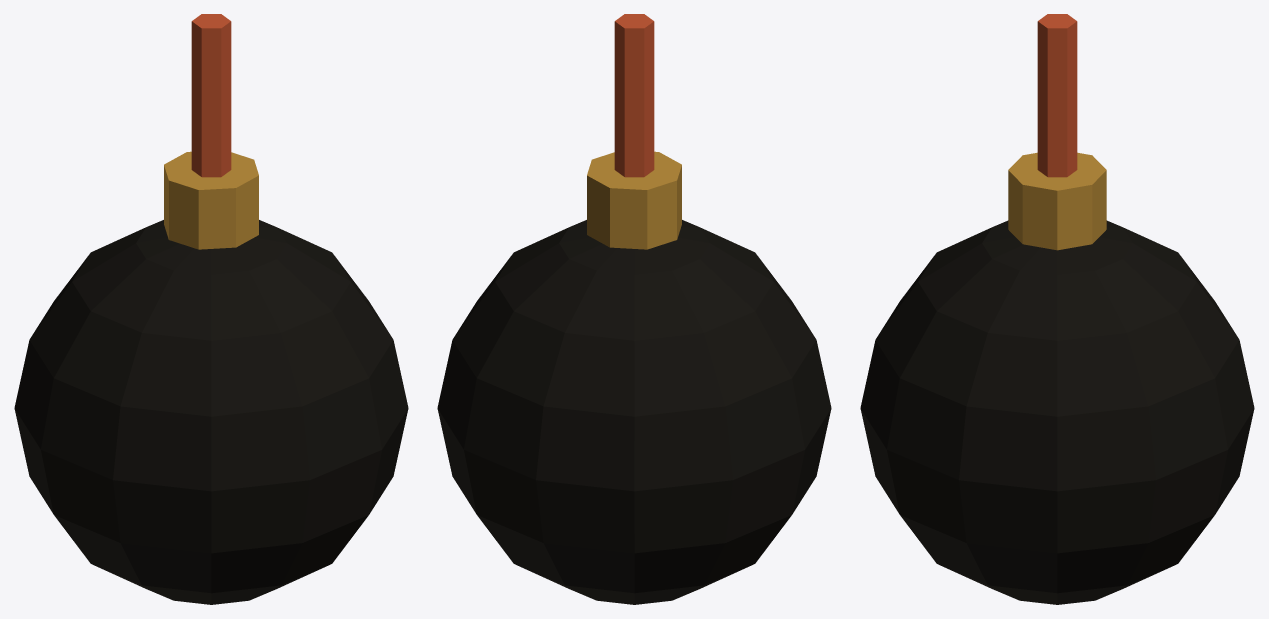
File: PowderGrenade.fbx
3 renders of one model, left to right at view 1: azimuth 30°, elevation 25°; view 2: azimuth 150°, elevation 25°; view 3: azimuth 270°, elevation 25°, orthographic.
Parts seen in each view (by area): view 1: PowderGrenade; view 2: PowderGrenade; view 3: PowderGrenade.
Boxes of the visible parts, x1,y1,x2,y2 form: PowderGrenade: (14, 14, 408, 604); PowderGrenade: (437, 14, 831, 604); PowderGrenade: (860, 14, 1254, 604).
Size of the model in its own units: 12 by 19 by 12.
3 materials, 3 textured.
